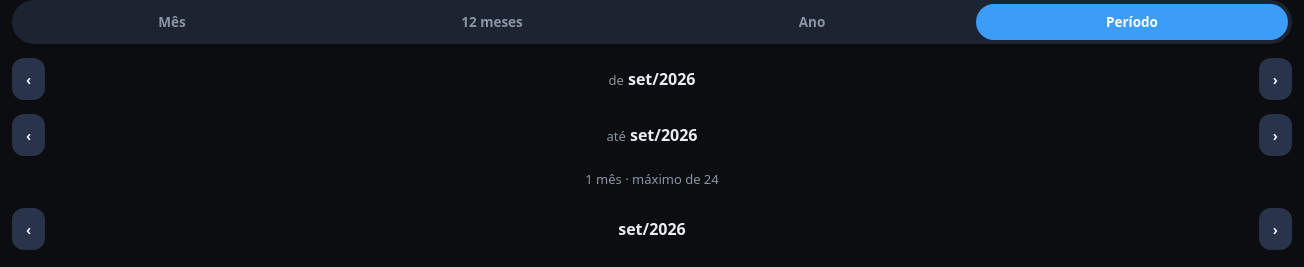
Test: SeletorPeriodo › modo Período: início além do fim arrasta o fim; nunca passa de 24 meses
This screenshot has width=1304, height=267.
Check: the text "1 mês · máximo de 24" is shown, box [585, 170, 719, 188]
Step 1. Click the button named "Mês inicial seguinte" → (1275, 79), box [1259, 58, 1292, 100]
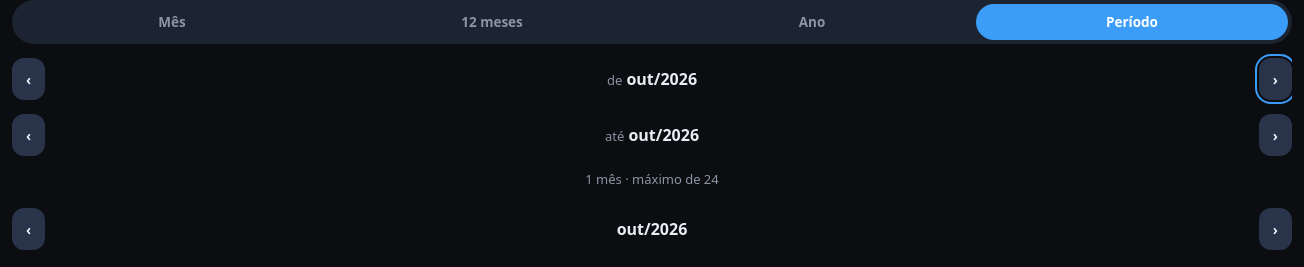
Check: the 3rd text "out/2026" is shown, box [617, 218, 687, 240]
